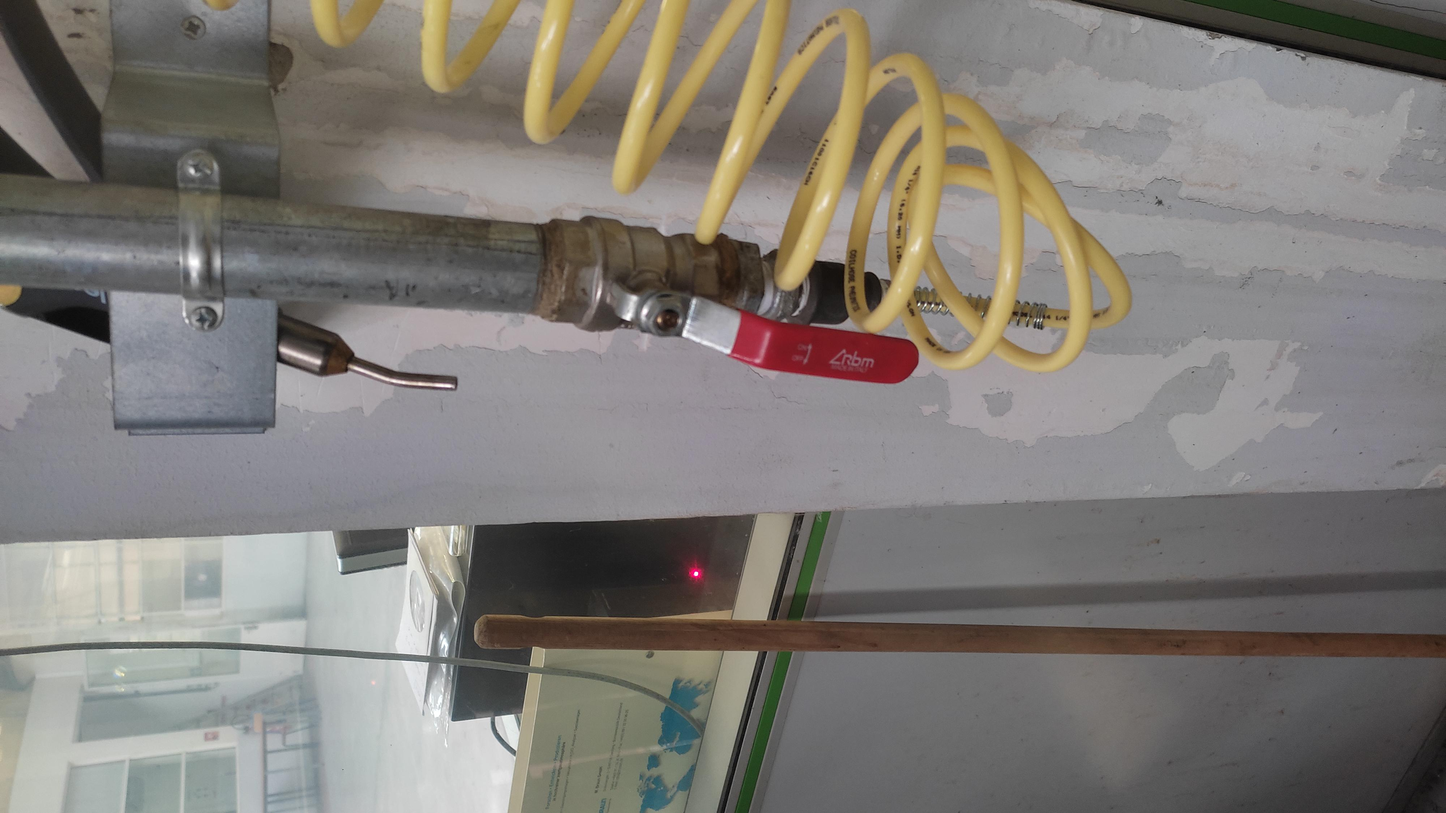opened valve: (554, 207, 926, 392)
